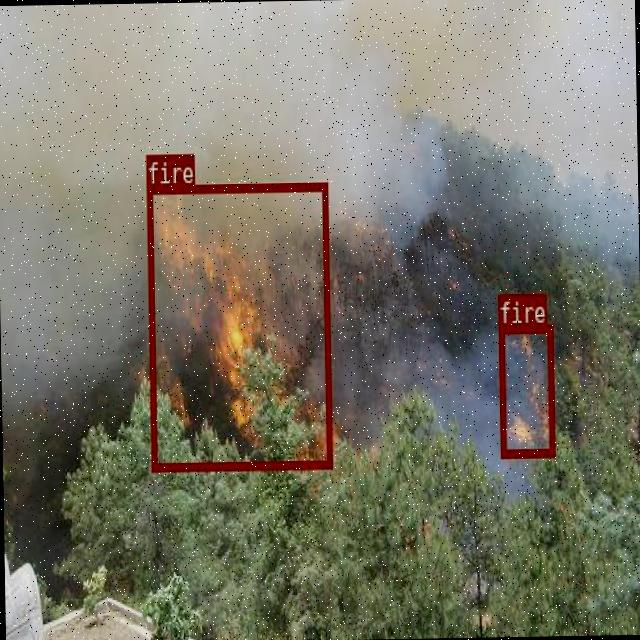fire: (146, 180, 332, 470), (498, 322, 553, 457)
